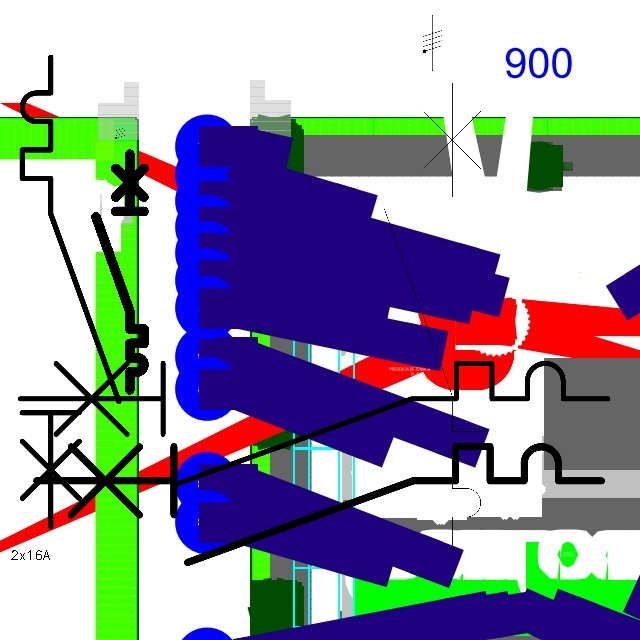interruptor_termomagnetico: (5, 348, 623, 499), (22, 432, 616, 577), (10, 45, 131, 539), (372, 70, 493, 564), (90, 148, 150, 396)
